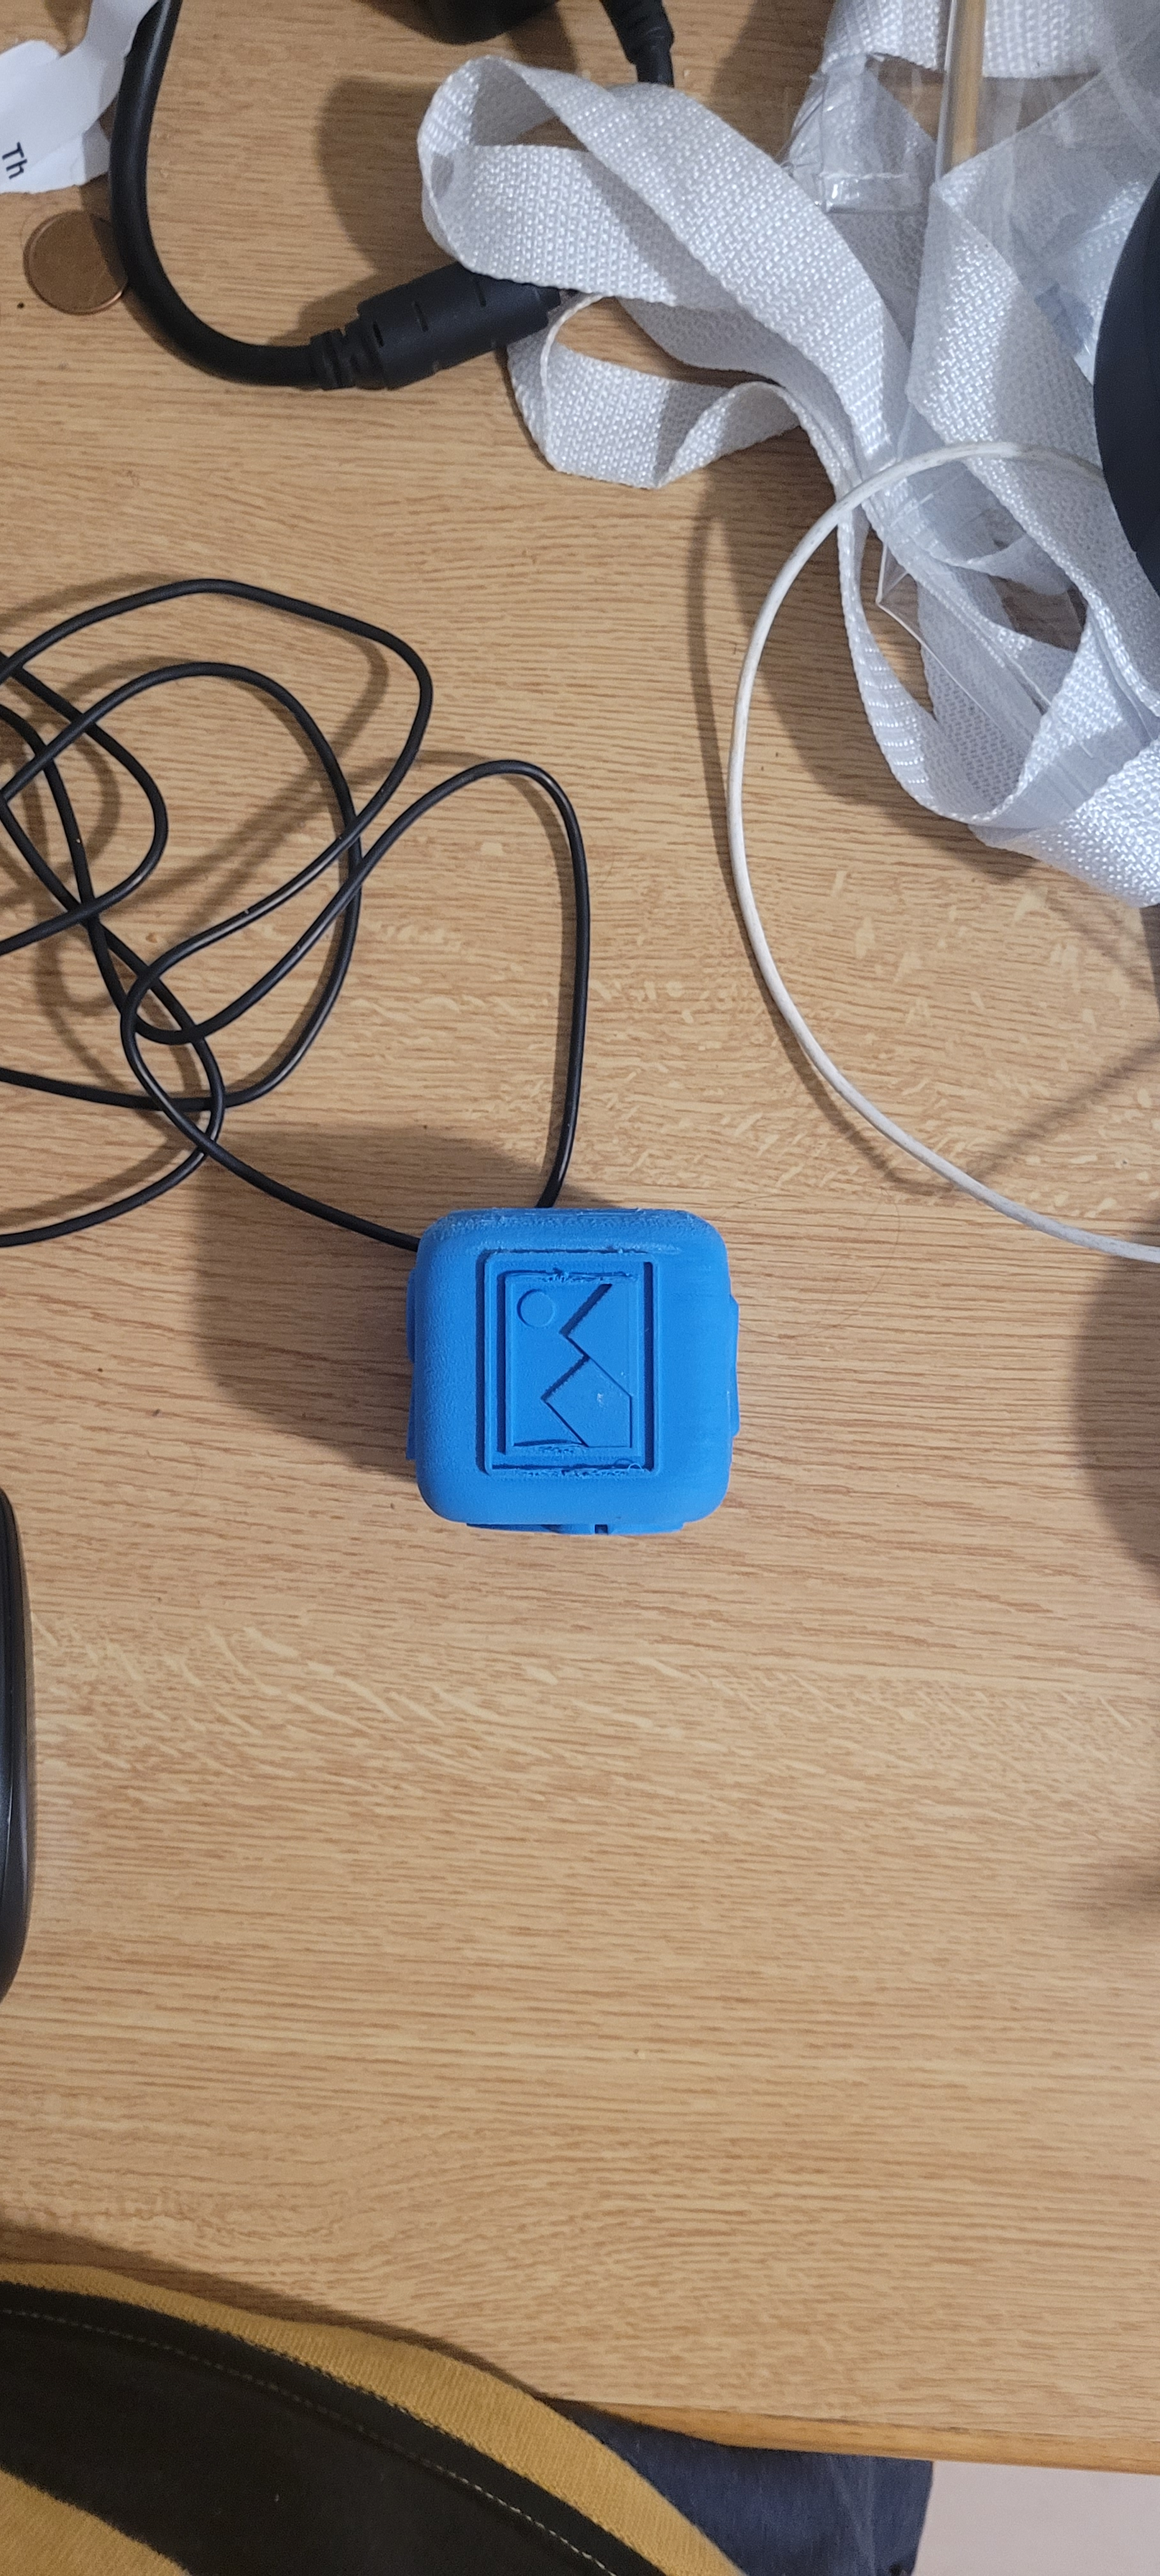Story: (457, 1239, 675, 1510)
